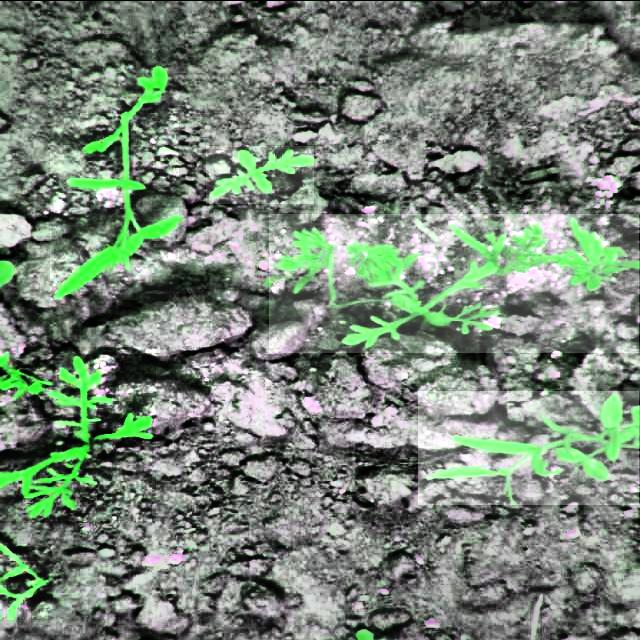Weeds: (50, 64, 179, 299), (418, 389, 639, 504)
undefined: (269, 213, 639, 352), (0, 346, 156, 522), (206, 145, 314, 203), (0, 543, 52, 619)
